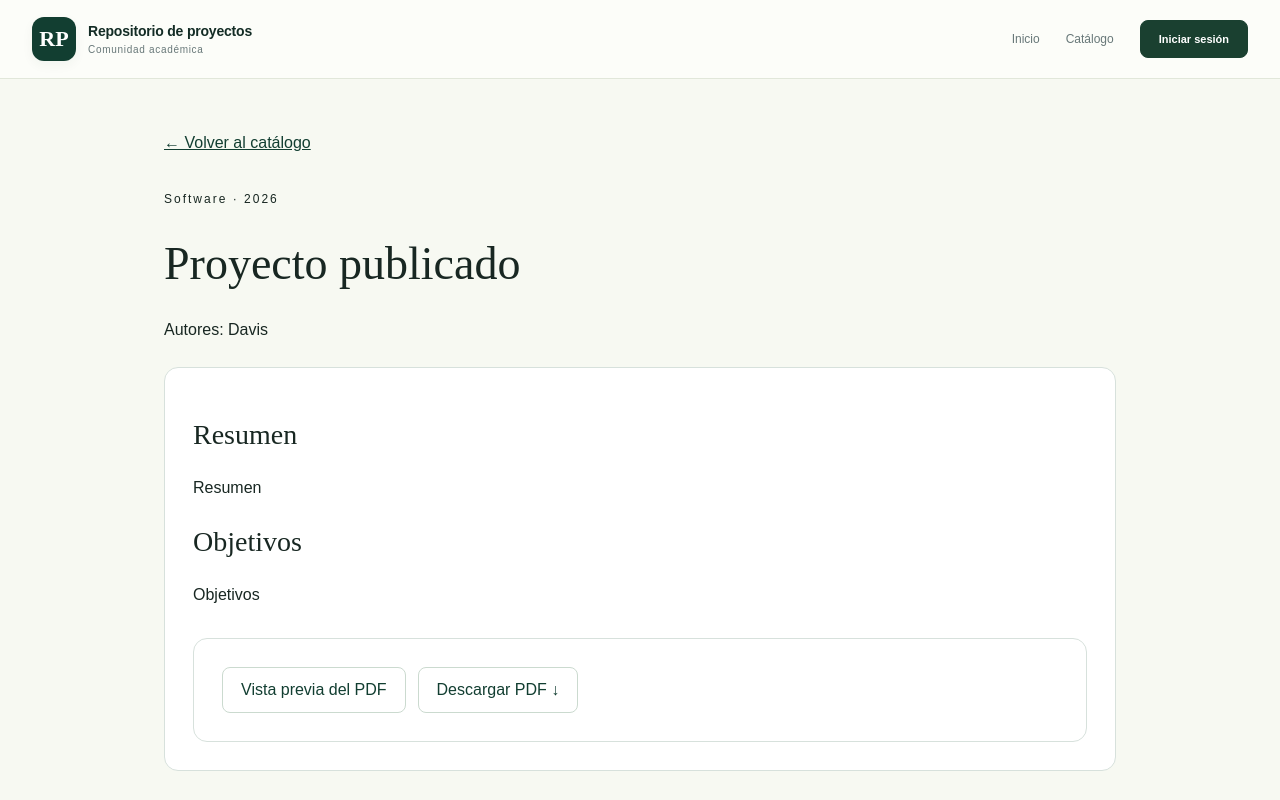
Test: Mejoras del repositorio › muestra un error de vista previa si el proyecto ya no está disponible
Click the button "Vista previa del PDF" at (314, 690), box left=222, top=667, right=406, bottom=713
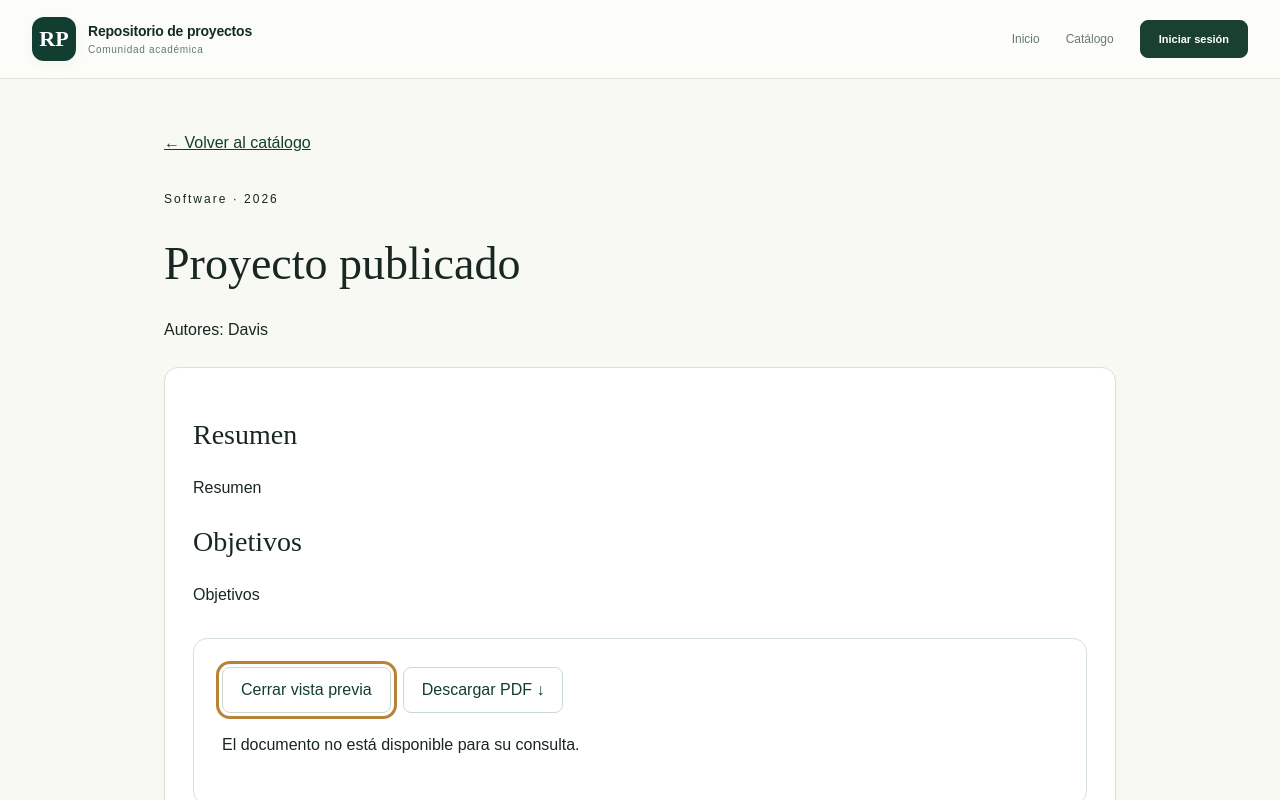
Now the message "El documento no está disponible para su consulta." is shown, box left=222, top=736, right=580, bottom=753
